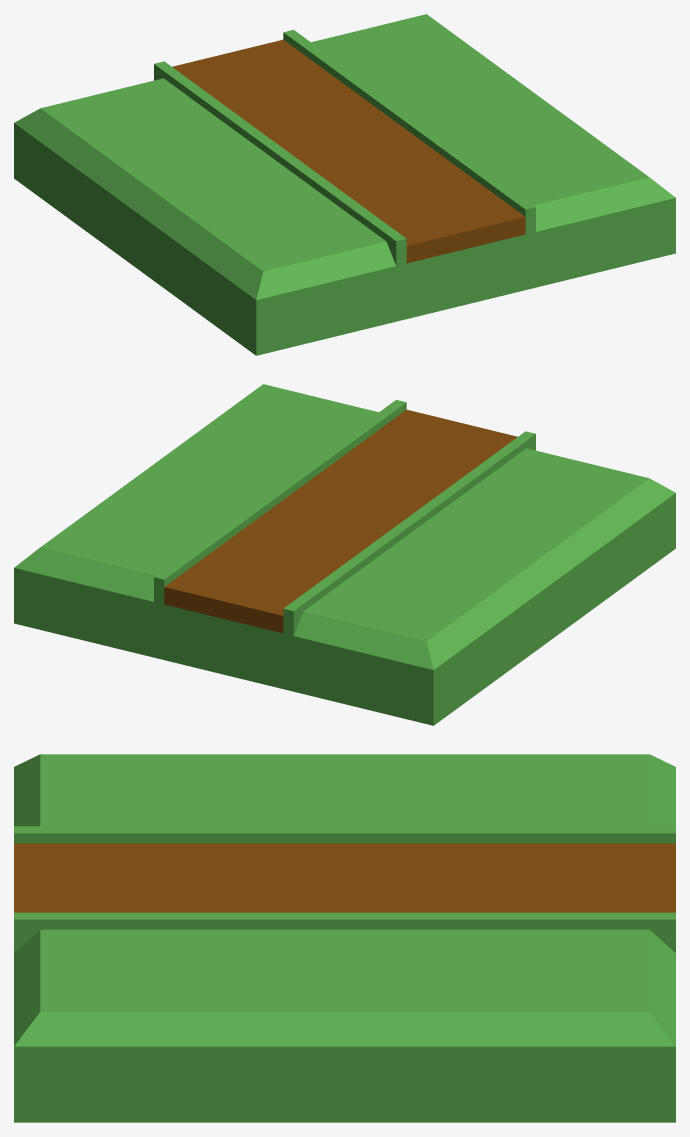
File: Road_StraightTile.fbx
3 renders of one model, top to bottom at view 1: azimuth 30°, elevation 25°; view 2: azimuth 150°, elevation 25°; view 3: azimuth 270°, elevation 25°, orthographic. The views are drawn at different scales.
Visible parts, largest first — view 1: Cube; view 2: Cube; view 3: Cube.
Boxes of the visible parts, x1,y1,x2,y2 form: Cube: [14, 14, 675, 355]; Cube: [14, 384, 675, 725]; Cube: [14, 754, 675, 1122].
Size of the model in its own units: 600 by 110 by 600.
